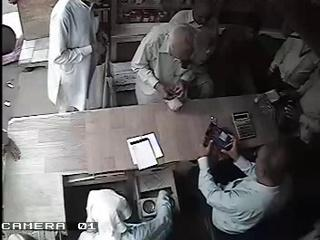Normal: (196, 118, 294, 240), (131, 0, 222, 106), (46, 0, 108, 113), (78, 188, 175, 239)
